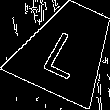L_NE: (40, 20, 95, 79)
